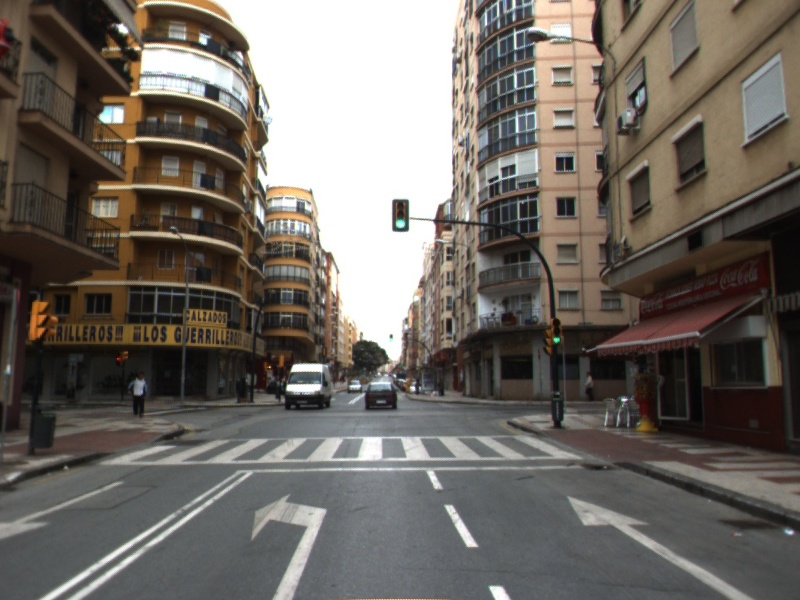LEFT: (250, 492, 329, 600)
STRAIGHT: (566, 494, 755, 600)
